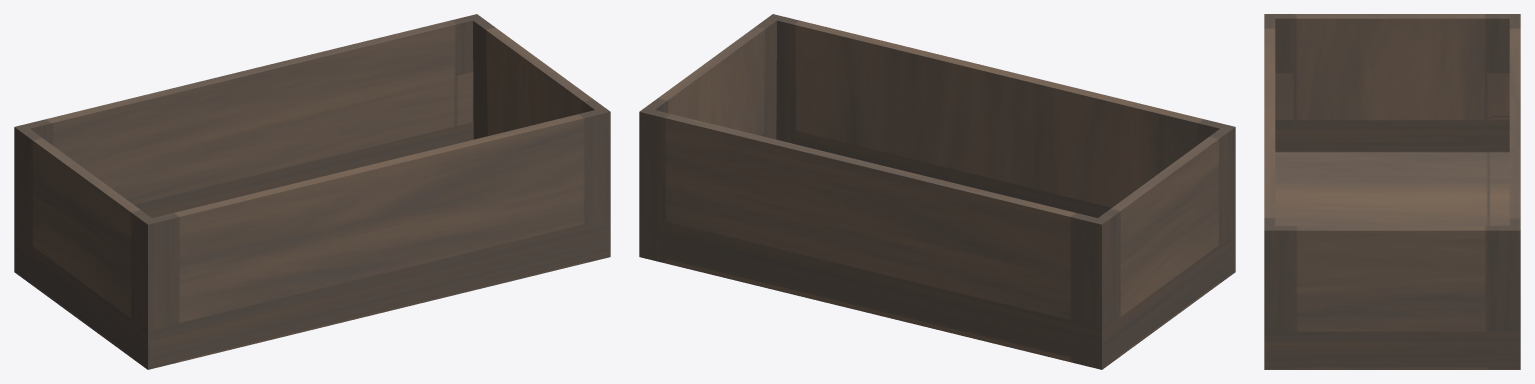
The model's file is crateBox.fbx.
The picture shows the model from 3 angles, left to right: view 1: azimuth 30°, elevation 25°; view 2: azimuth 150°, elevation 25°; view 3: azimuth 270°, elevation 25°; orthographic projection. The views are drawn at different scales.
Parts seen in each view (by area): view 1: Cube.001; view 2: Cube.001; view 3: Cube.001.
Part boxes in pixels (bbox=[...]): Cube.001: bbox=[14, 14, 610, 369]; Cube.001: bbox=[639, 14, 1235, 369]; Cube.001: bbox=[1264, 14, 1520, 369].
Size of the model in its own units: 200 by 60 by 100.
1 material, 1 textured.
